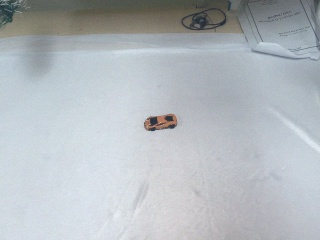toy_car: (144, 114, 177, 131)
